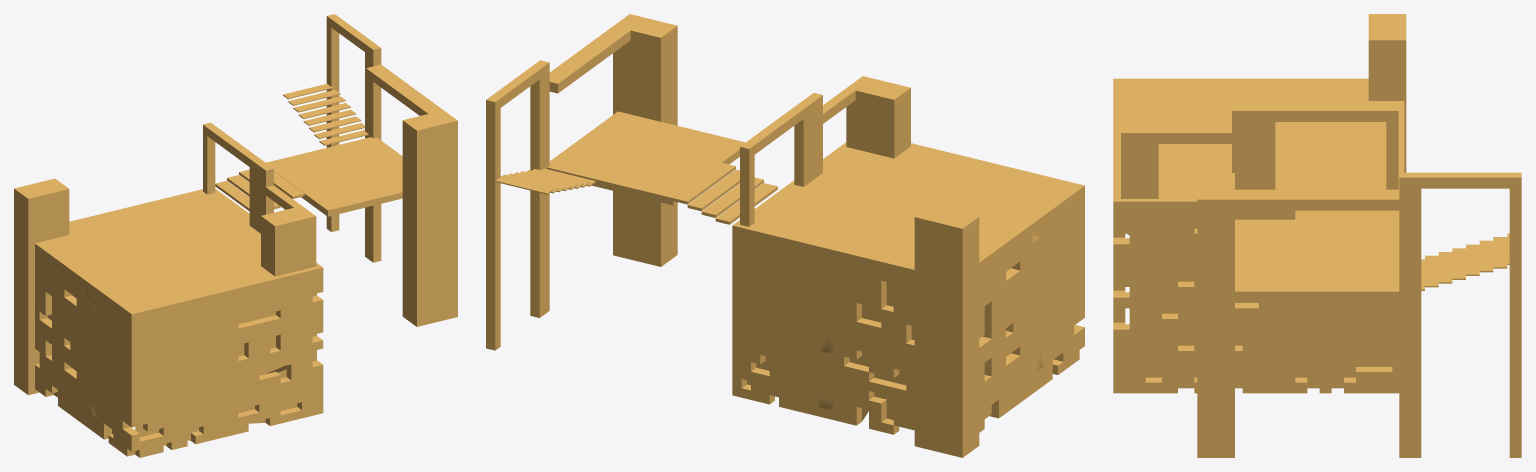
File: OU_AR_History_01_D.fbx
The picture shows the model from 3 angles, left to right: view 1: azimuth 30°, elevation 25°; view 2: azimuth 150°, elevation 25°; view 3: azimuth 270°, elevation 25°; orthographic projection. The views are drawn at different scales.
Visible parts, largest first — view 1: OU_AR_History_01_D; view 2: OU_AR_History_01_D; view 3: OU_AR_History_01_D.
Part boxes in pixels (x1,y1,x2,y2): OU_AR_History_01_D: (14,14,457,457); OU_AR_History_01_D: (486,14,1084,457); OU_AR_History_01_D: (1113,14,1521,457).
Size of the model in its own units: 2285 by 1496 by 1683.
